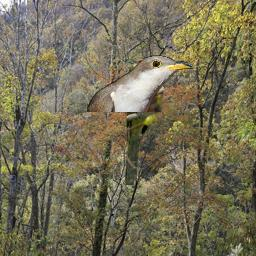Cuckoo: (87, 55, 193, 112), (122, 57, 165, 185)
